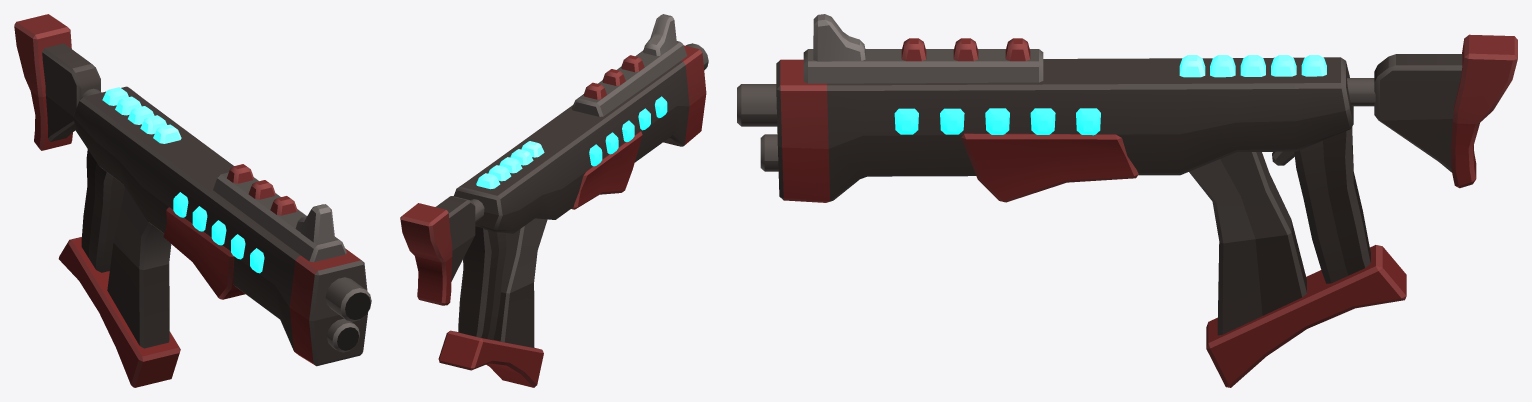
File: Riffle.fbx
3 views of the same model, side by side, from view 1: azimuth 30°, elevation 25°; view 2: azimuth 150°, elevation 25°; view 3: azimuth 270°, elevation 25° (orthographic). The views are drawn at different scales.
Parts seen in each view (by area): view 1: Riffle; view 2: Riffle; view 3: Riffle.
Boxes of the visible parts, left/top/right/bottom form: Riffle: left=14, top=14, right=371, bottom=387; Riffle: left=400, top=14, right=708, bottom=387; Riffle: left=737, top=14, right=1517, bottom=387.
Bounding box in the file's own units: 9.14 × 37.01 × 72.67.
